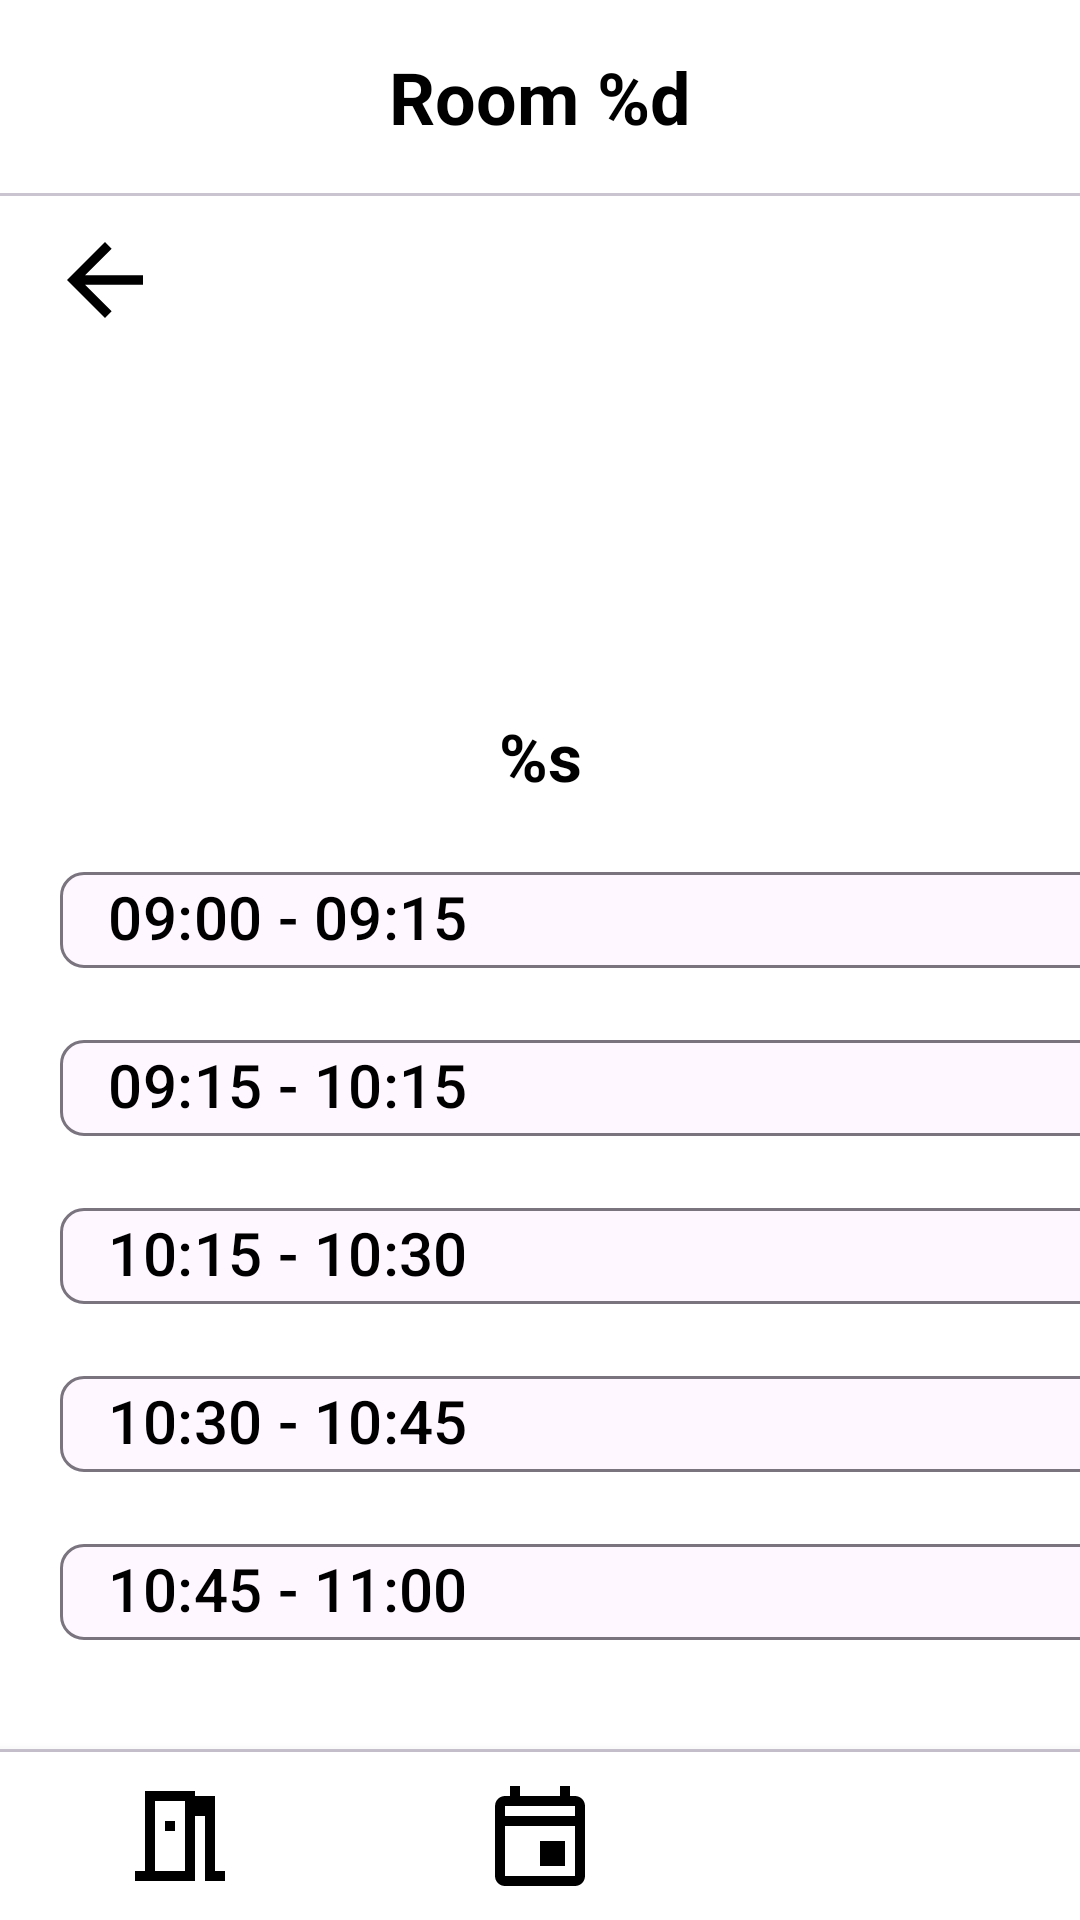

Point at icon controls on the screen. Image size 1080×1920, points as (x,y).
Back button: (105,280)
